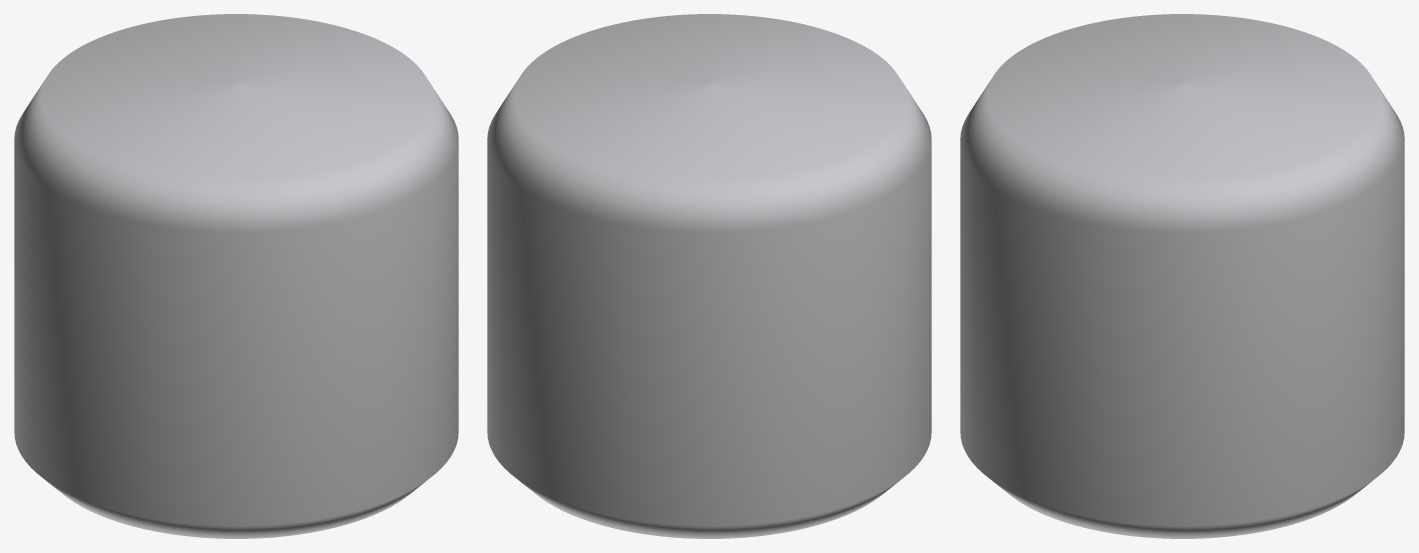
Rendered from white-pump-lid.glb.
The picture shows the model from 3 angles, left to right: view 1: azimuth 30°, elevation 25°; view 2: azimuth 150°, elevation 25°; view 3: azimuth 270°, elevation 25°; orthographic projection.
Size of the model in its own units: 0.66 by 0.61 by 0.66.
Materials: 1 (1 with a texture image).
